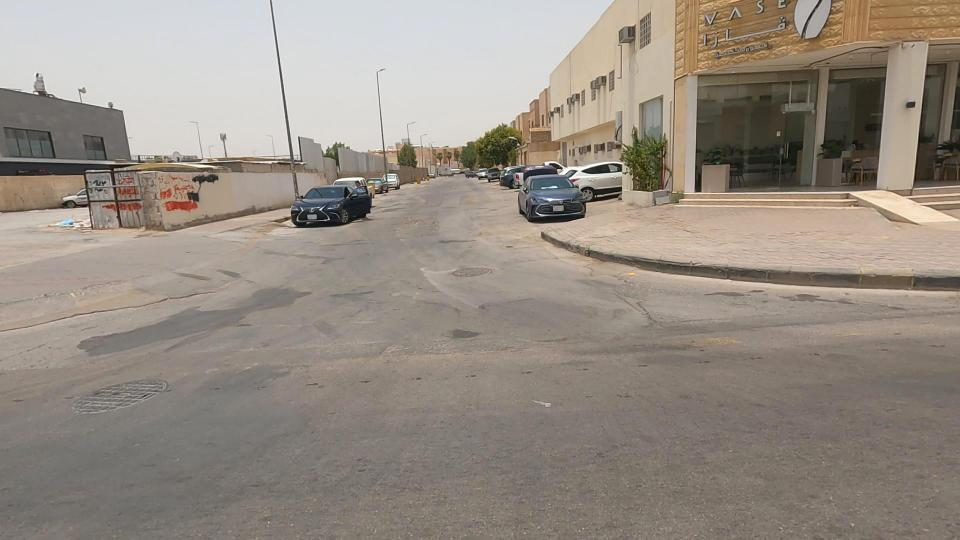GARBAGE: (31, 206, 101, 245)
GRAFFITI: (58, 155, 178, 233), (117, 160, 231, 242)
